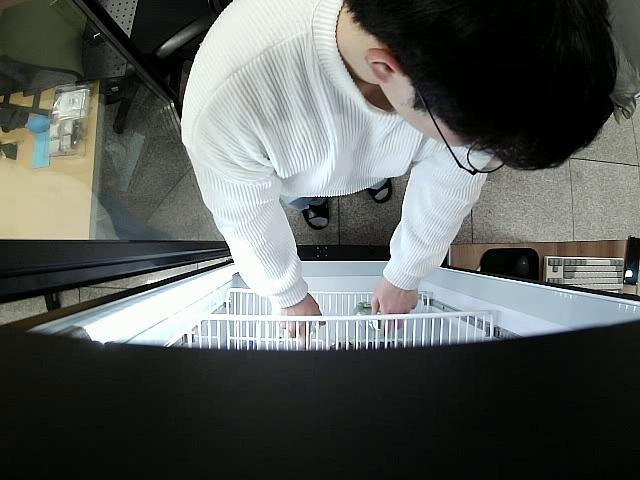18_trevi: (356, 303, 382, 334)
